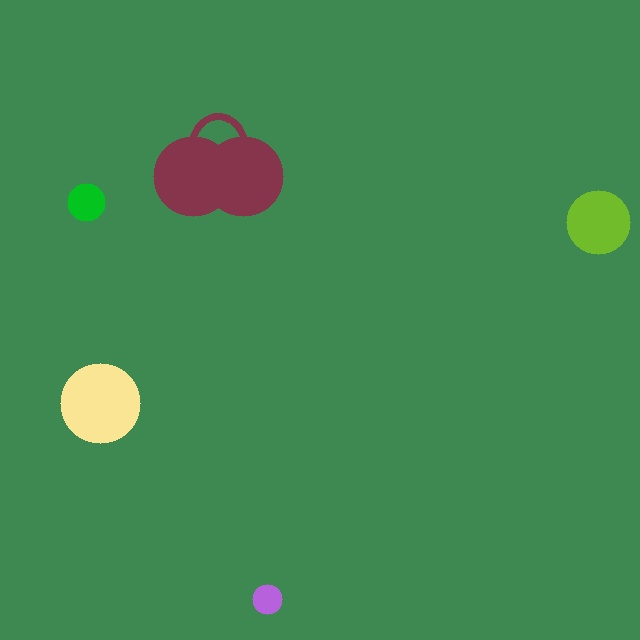over_ear: (149, 116, 287, 220)
